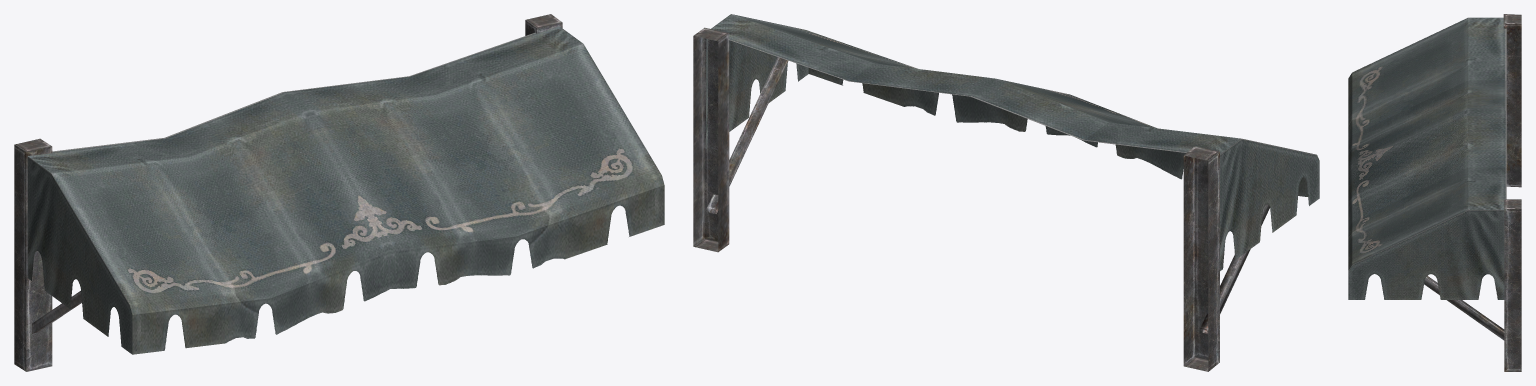
Rendered from bg_lut_lucastle_tent03_sm_msj.FBX.
3 views of the same model, side by side, from view 1: azimuth 30°, elevation 25°; view 2: azimuth 150°, elevation 25°; view 3: azimuth 270°, elevation 25° (orthographic). The views are drawn at different scales.
Parts seen in each view (by area): view 1: bg_lut_lucastle_tent03_sm_msj; view 2: bg_lut_lucastle_tent03_sm_msj; view 3: bg_lut_lucastle_tent03_sm_msj.
Boxes of the visible parts, x1,y1,x2,y2 form: bg_lut_lucastle_tent03_sm_msj: (14,14,664,371); bg_lut_lucastle_tent03_sm_msj: (693,14,1319,371); bg_lut_lucastle_tent03_sm_msj: (1348,14,1521,371).
Size of the model in its own units: 192 by 75.67 by 72.38.
